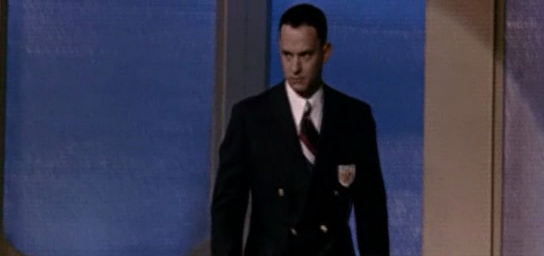face: (279, 25, 319, 90)
ms: (1, 1, 544, 256)
person: (211, 4, 391, 256)
